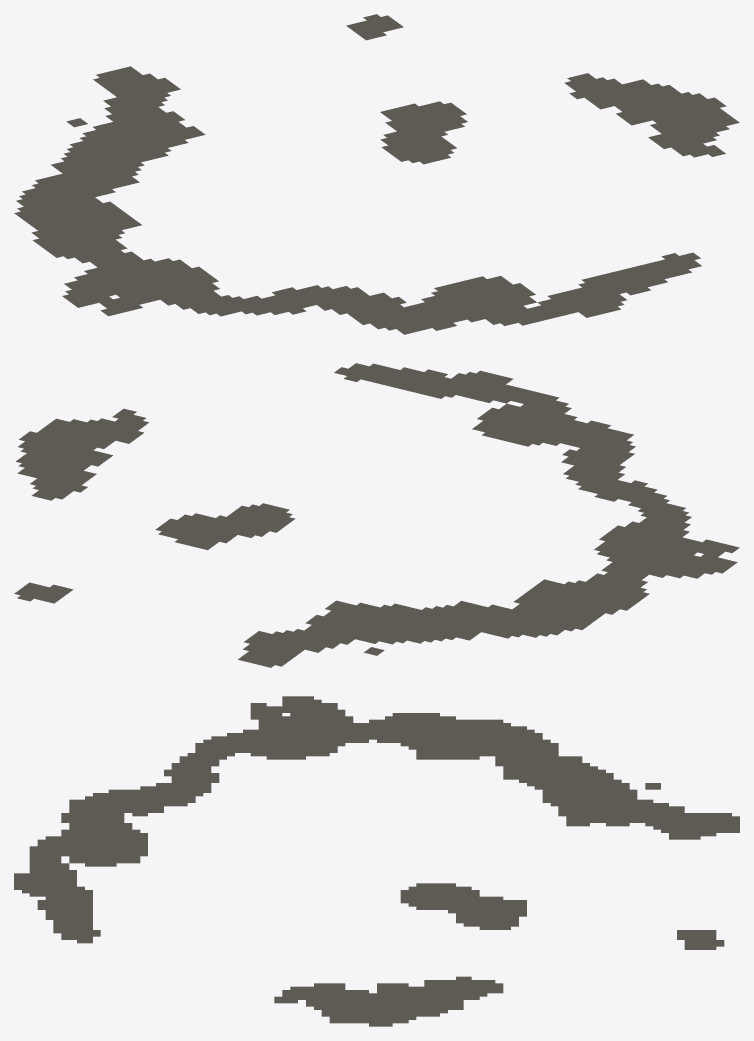
Rendered from Isl-flat1-NoBuildArea.fbx.
3 renders of one model, top to bottom at view 1: azimuth 30°, elevation 25°; view 2: azimuth 150°, elevation 25°; view 3: azimuth 270°, elevation 25°, orthographic. The views are drawn at different scales.
Parts seen in each view (by area): view 1: Isl-flat1-NoBuildArea; view 2: Isl-flat1-NoBuildArea; view 3: Isl-flat1-NoBuildArea.
Part boxes in pixels (bbox=[...]): Isl-flat1-NoBuildArea: bbox=[14, 14, 739, 334]; Isl-flat1-NoBuildArea: bbox=[14, 363, 739, 667]; Isl-flat1-NoBuildArea: bbox=[14, 696, 739, 1026].
Bounding box in the file's own units: 99 × 0 × 92.
